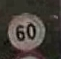limite 60: (7, 11, 48, 52)
